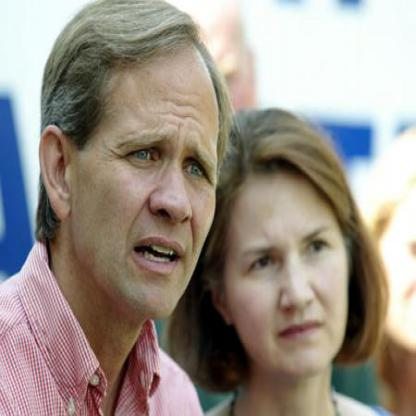face: (70, 13, 223, 324), (219, 127, 353, 381)
